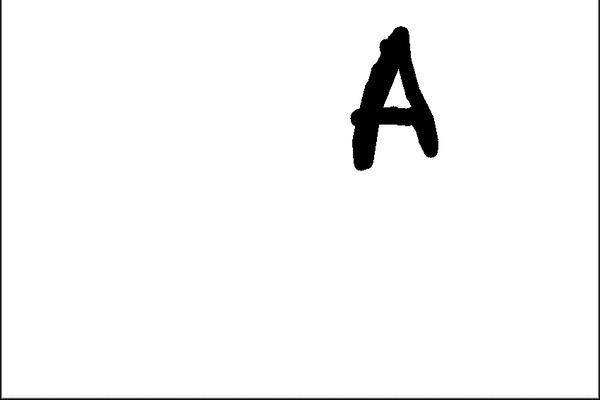A: (326, 19, 458, 177)
